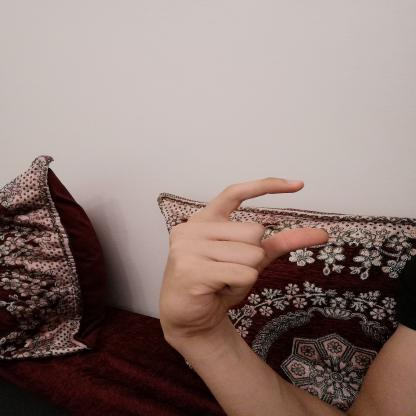DELL: (144, 168, 338, 344)
